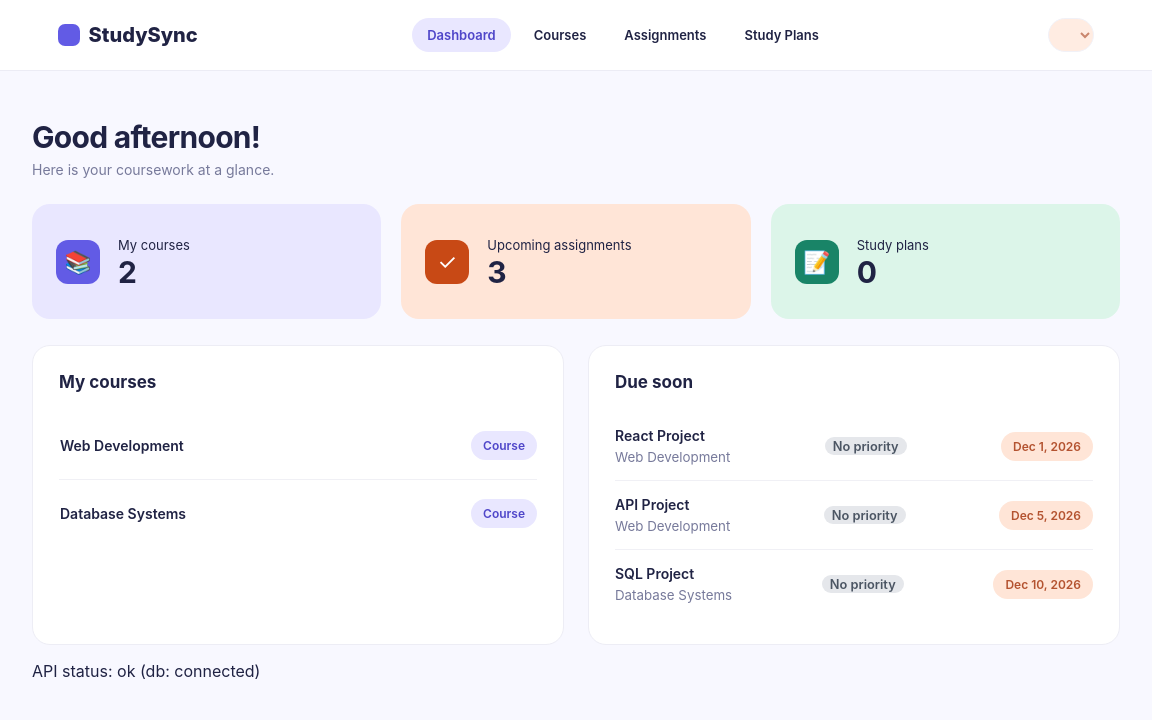
Test: filters assignments by course and restores all assignments
The image size is (1152, 720).
Click the button "Assignments": (665, 35) [609,18,721,52]
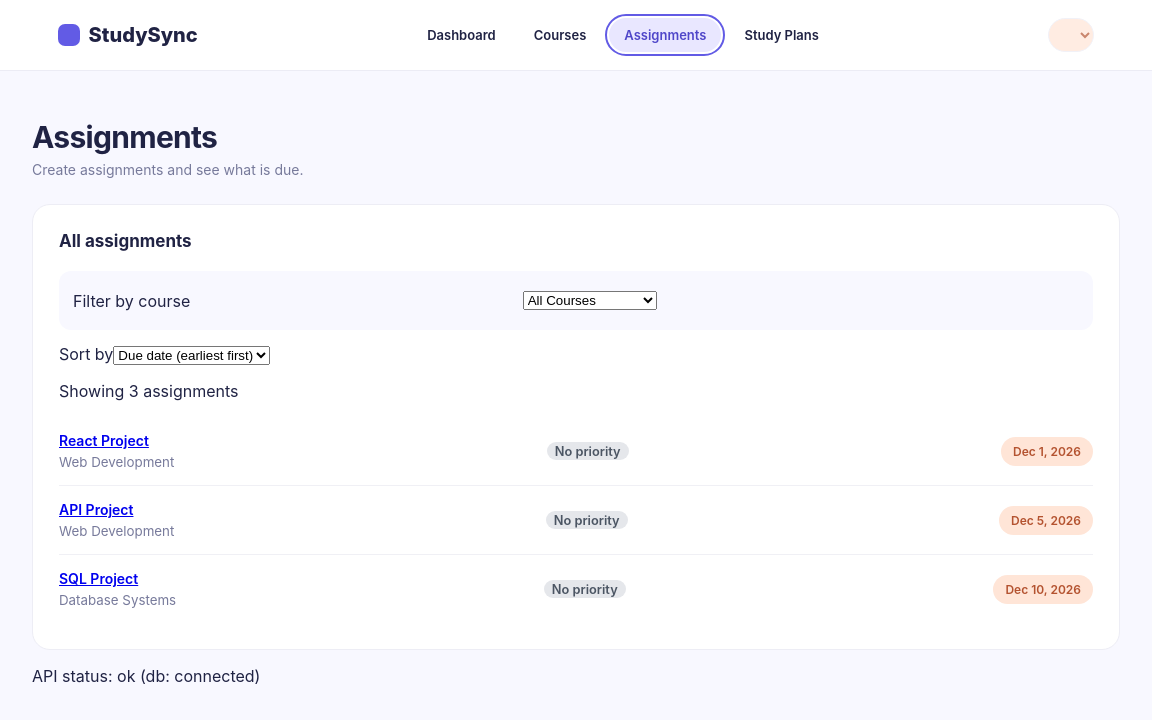
Expected: the link "React Project" is shown, [59,432,149,449]
Expected: the text "Showing 3 assignments" is shown, [59,381,238,401]
Expected: the dropdown labelled "Filter by course" shows "All Courses"
Select "Web Development" in the dropdown labelled "Filter by course": (590, 300) [523,291,657,310]
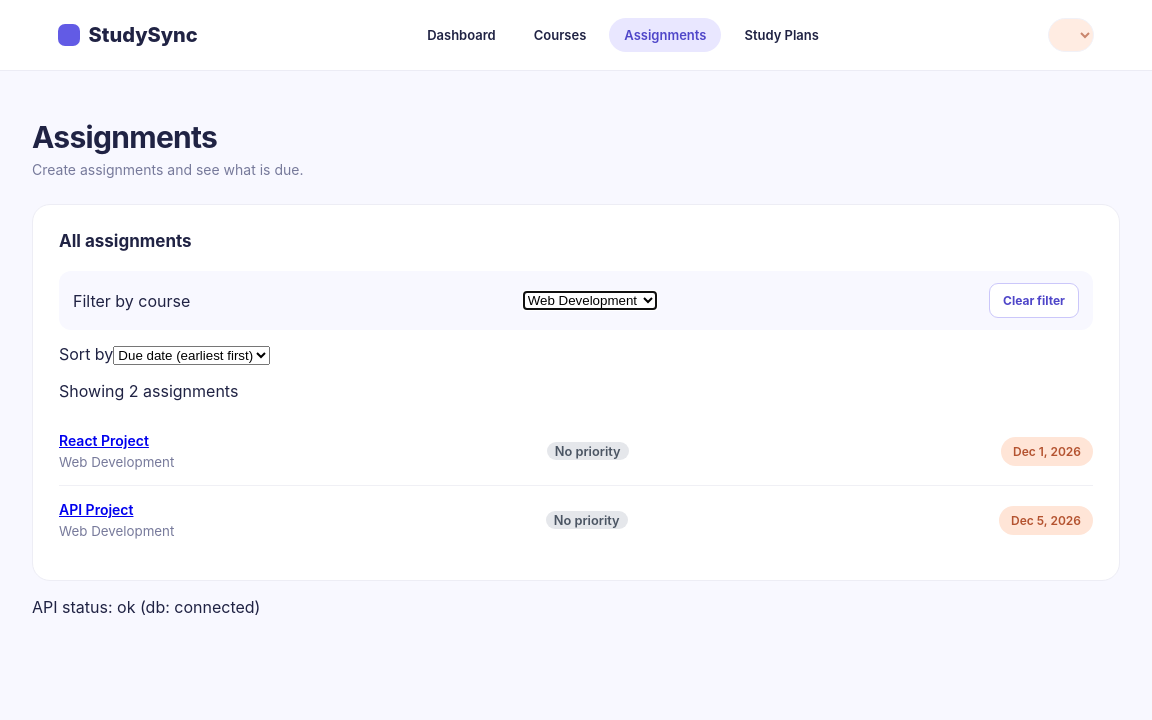
Expected: the text "Showing 2 assignments" is shown, [59,381,238,401]
Expected: the link "SQL Project" is gone
Expected: the button "Clear filter" is enabled
Click the button "Clear filter": (1034, 300) [989,283,1079,318]
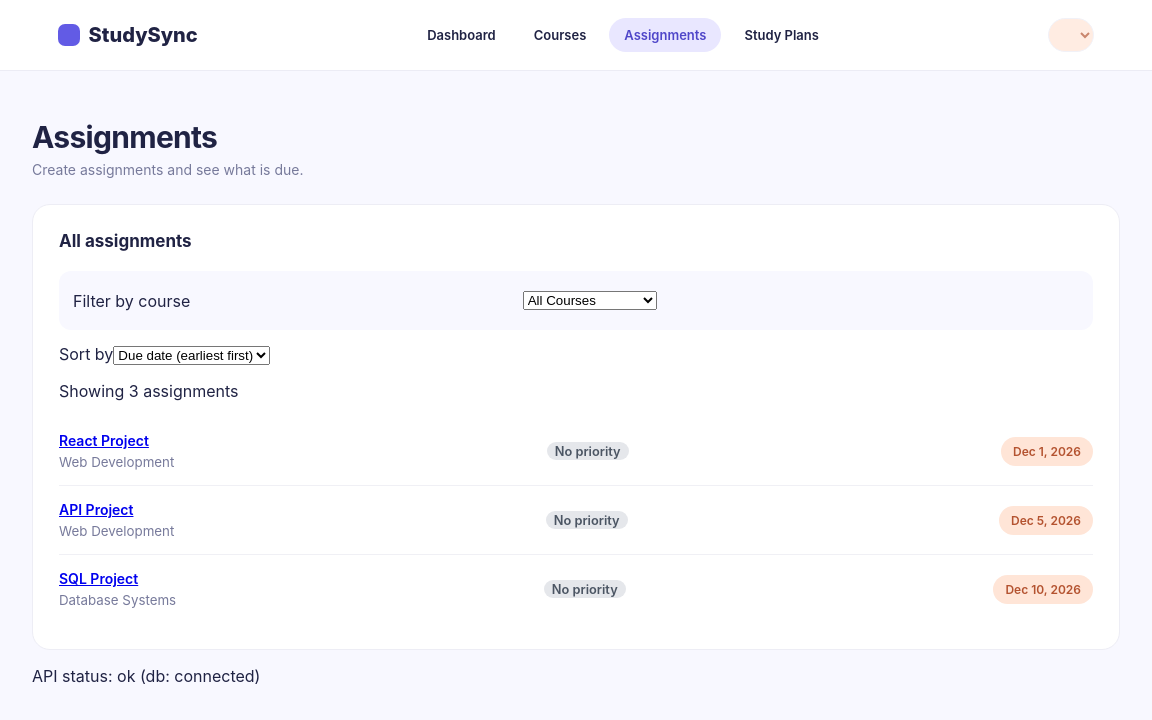
Expected: the text "Showing 3 assignments" is shown, [59,381,238,401]
Expected: the link "SQL Project" is shown, [59,570,138,587]
